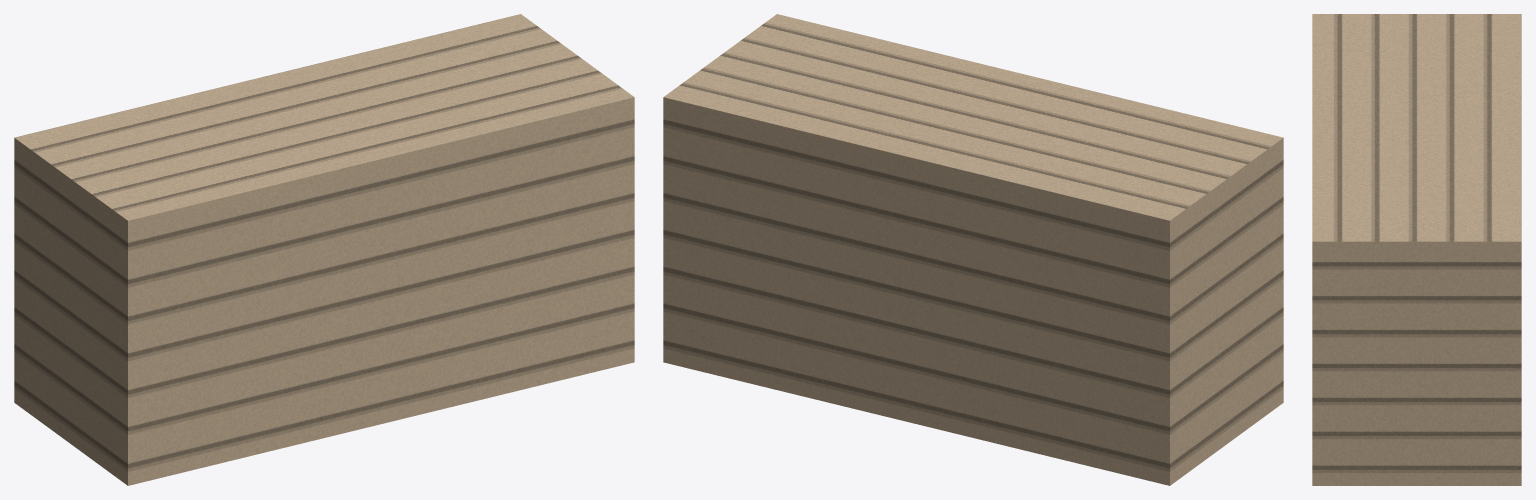
Rendered from commercial_prep_counter.glb.
3 views of the same model, side by side, from view 1: azimuth 30°, elevation 25°; view 2: azimuth 150°, elevation 25°; view 3: azimuth 270°, elevation 25° (orthographic). The views are drawn at different scales.
Visible parts, largest first — view 1: commercial_prep_counter-col; view 2: commercial_prep_counter-col; view 3: commercial_prep_counter-col.
Part boxes in pixels (x1,y1,x2,y2): commercial_prep_counter-col: [14, 14, 634, 485]; commercial_prep_counter-col: [663, 14, 1283, 485]; commercial_prep_counter-col: [1312, 14, 1521, 485].
Size of the model in its own units: 1.8 by 0.9 by 0.7.
1 material, 1 textured.
